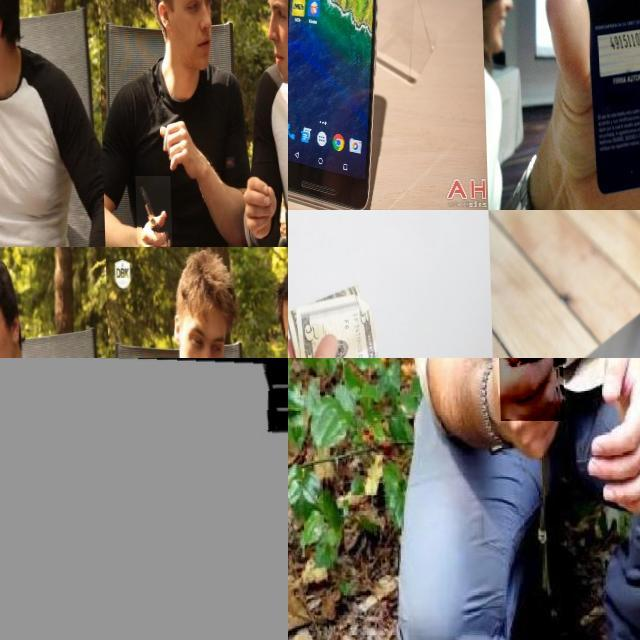-: (493, 358, 562, 454), (134, 176, 170, 246), (0, 177, 18, 246)
gun-knife-thesis - v11 Yolov5 augmented: (0, 358, 288, 640)
